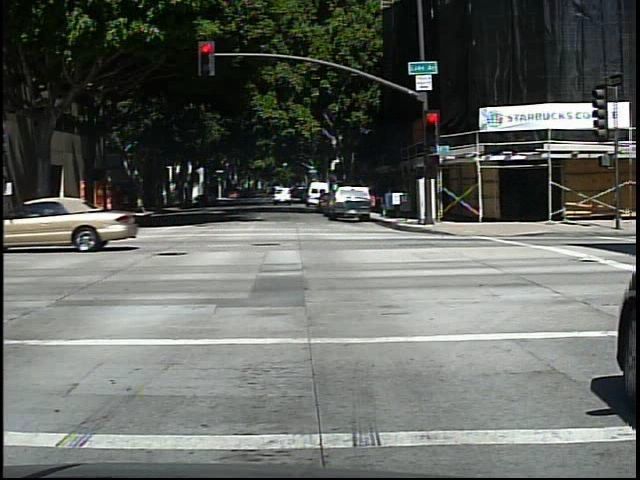person: (55, 186, 84, 239)
